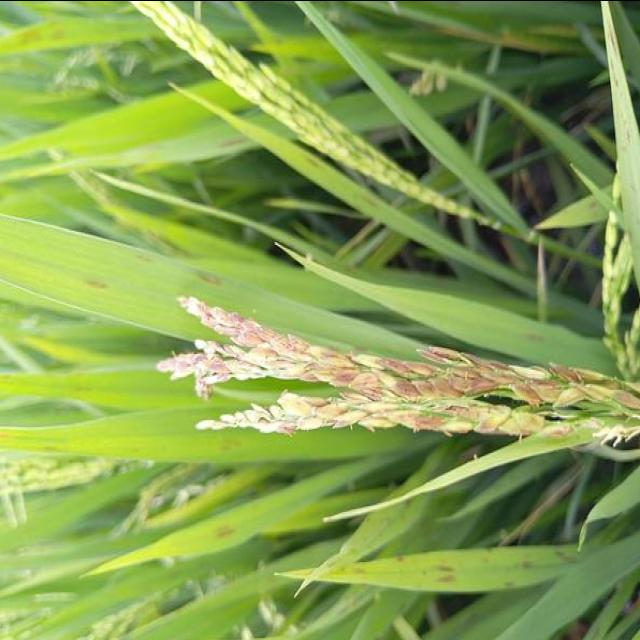Panicle Blight: (157, 296, 640, 435)
